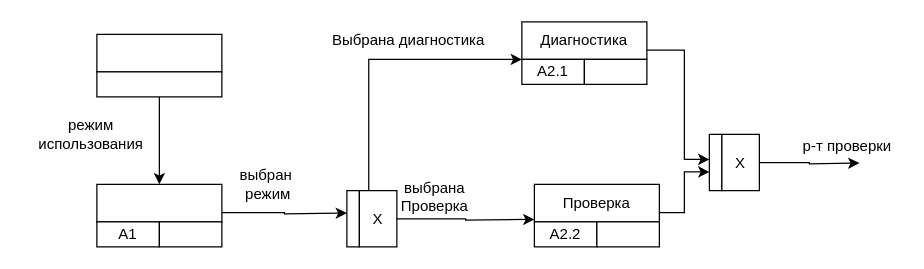
Image size: 924x269. Some labels were removed from this diagram. The shapes that lost their labels are listed below. From the top down, each one's box as (x1, y1, x2, y2) in pixels, then its label:
(96, 33, 222, 72): Данные от пользователя
(96, 183, 222, 222): Выбор режима
